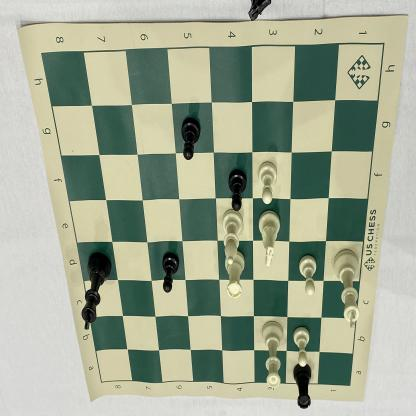black-king: (78, 249, 114, 332)
black-pawn: (178, 114, 202, 164), (226, 168, 250, 213), (159, 248, 181, 296)
black-rook: (290, 359, 316, 414)
white-bishop: (220, 204, 244, 269)
white-king: (330, 245, 363, 334)
white-knight: (256, 208, 283, 270)
white-pawn: (257, 158, 280, 208), (297, 251, 320, 299), (290, 324, 314, 368)
white-queen: (258, 318, 286, 392)
white-rook: (222, 247, 249, 304)
